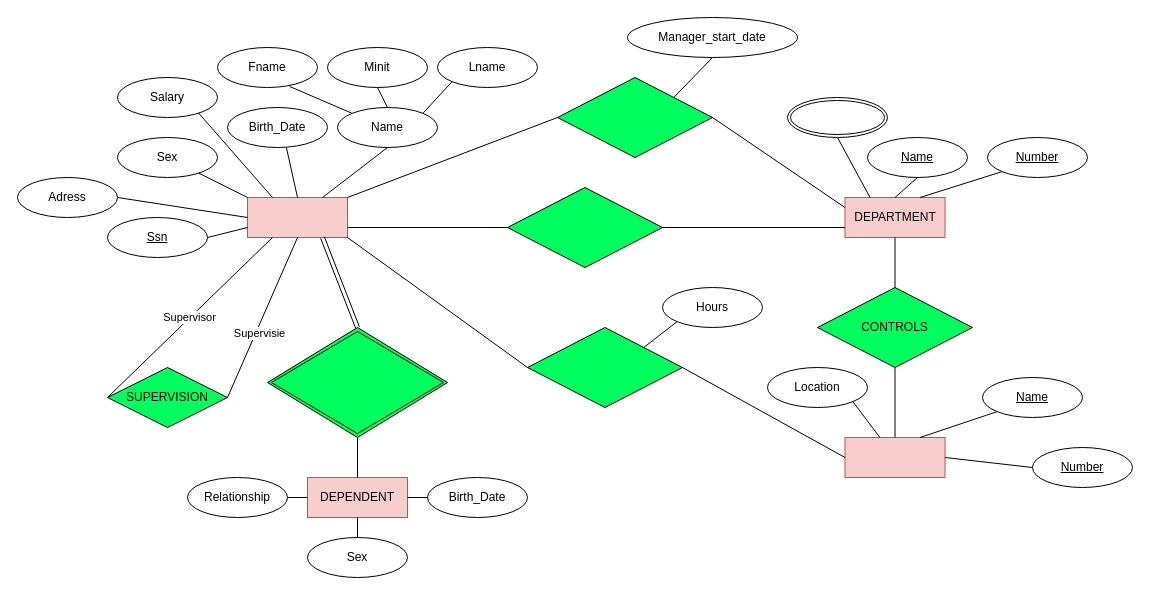
The diagram is 1150 pixels wide and 612 high, and some of its shapes have lost their labels. Each missing label, with the centre of its shape:
DEPENDENTS_OF: the point at 357,382
EMPLOYEE: the point at 297,217
Locations: the point at 837,117
MANAGES: the point at 634,117
PROJECT: the point at 894,457
WORKS_FOR: the point at 584,227
WORKS_ON: the point at 604,367
